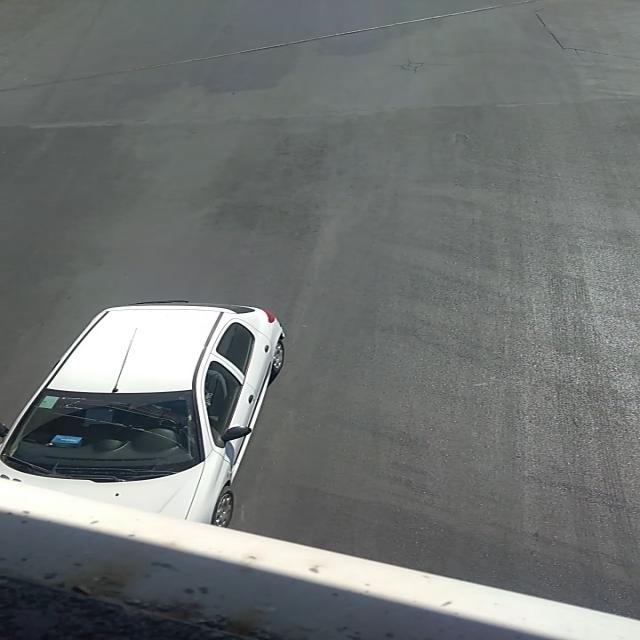car: (1, 301, 291, 525)
